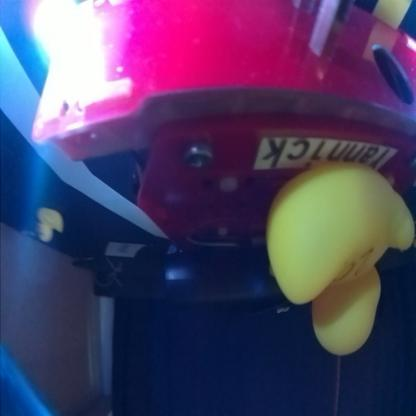Duckie: (268, 164, 414, 352), (38, 209, 64, 241)
Duckiebot: (31, 2, 415, 257)
